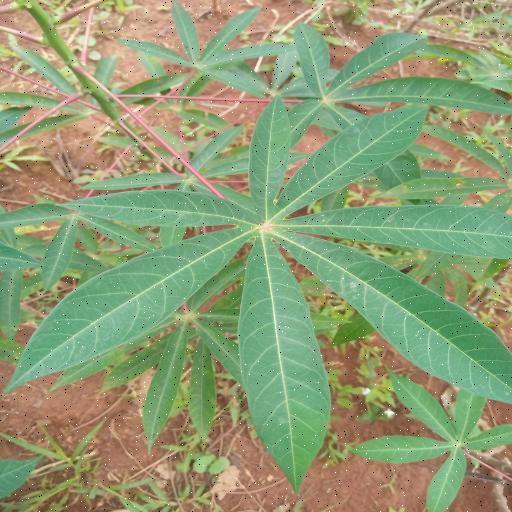Cassava_Healthy: (11, 94, 512, 482)
